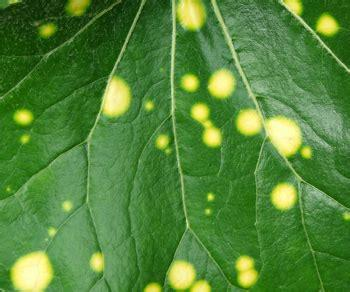black-spot: (177, 60, 266, 155), (129, 241, 266, 292)
